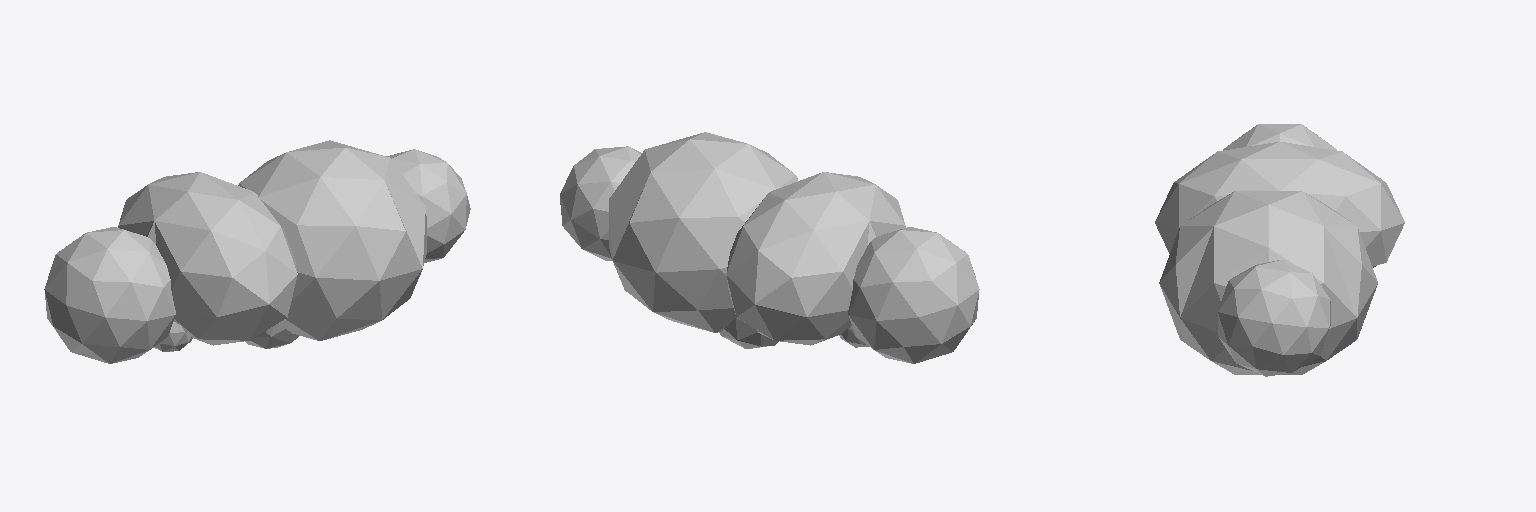
The model's file is Cloud_1.obj.
3 views of the same model, side by side, from view 1: azimuth 30°, elevation 25°; view 2: azimuth 150°, elevation 25°; view 3: azimuth 270°, elevation 25° (orthographic).
Parts seen in each view (by area): view 1: Cloud_1; view 2: Cloud_1; view 3: Cloud_1.
Boxes of the visible parts, x1=… form: Cloud_1: x1=44, y1=140, x2=470, y2=363; Cloud_1: x1=560, y1=132, x2=979, y2=363; Cloud_1: x1=1155, y1=124, x2=1404, y2=376.
Bounding box in the file's own units: 24.19 × 10.51 × 12.95.